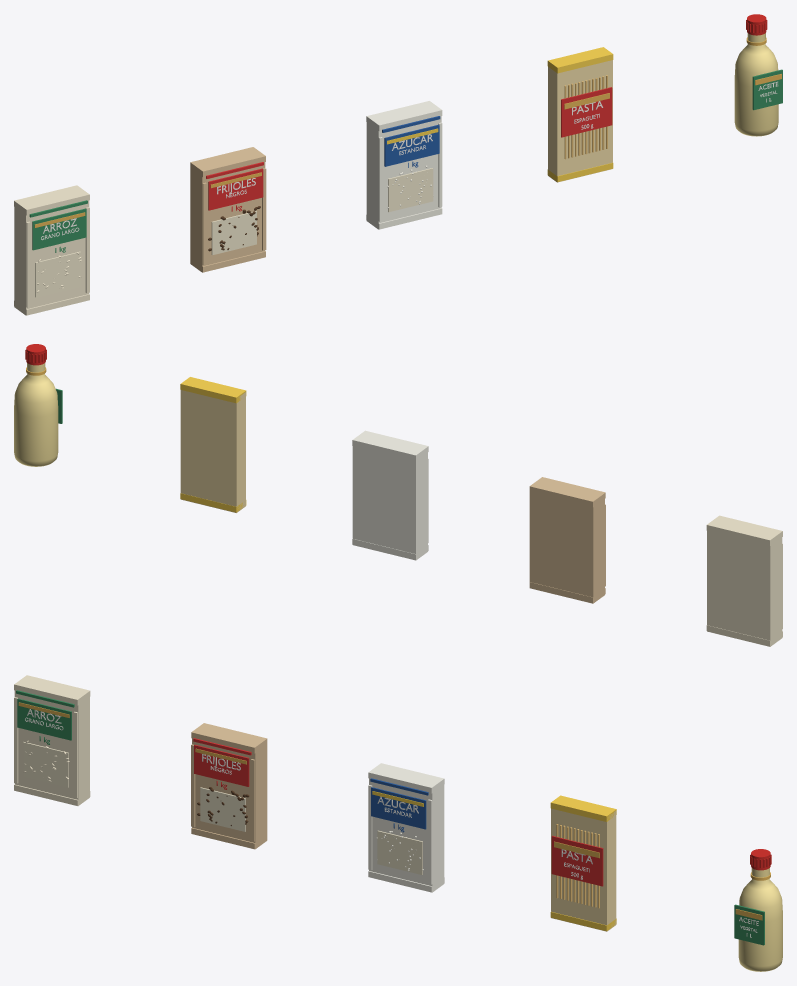
File: Abarrotes.glb
The picture shows the model from 3 angles, top to bottom: view 1: azimuth 30°, elevation 25°; view 2: azimuth 150°, elevation 25°; view 3: azimuth 330°, elevation 25°; orthographic projection.
Visible parts, largest first — view 1: Pasta_Envase, Arroz_Cuerpo, Azucar_Cuerpo, Frijoles_Cuerpo, Aceite_Botella, Pasta_Etiqueta, Arroz_Ventana, Azucar_Ventana, Frijoles_Ventana, Frijoles_Etiqueta_Base, Arroz_Etiqueta_Base, Azucar_Etiqueta_Base (+6 smaller); view 2: Arroz_Cuerpo, Azucar_Cuerpo, Frijoles_Cuerpo, Pasta_Envase, Aceite_Botella, Arroz_Sello_superior, Frijoles_Sello_superior, Azucar_Sello_superior, Pasta_Sello_superior; view 3: Pasta_Envase, Arroz_Cuerpo, Azucar_Cuerpo, Frijoles_Cuerpo, Aceite_Botella, Pasta_Etiqueta, Arroz_Ventana, Azucar_Ventana, Frijoles_Ventana, Azucar_Etiqueta_Base, Arroz_Etiqueta_Base, Frijoles_Etiqueta_Base (+5 smaller).
Part boxes in pixels (x1,y1,x2,y2): Pasta_Envase: (548,60,612,182); Arroz_Cuerpo: (14,200,89,315); Azucar_Cuerpo: (366,116,441,229); Frijoles_Cuerpo: (190,162,265,272); Aceite_Botella: (734,44,778,136); Pasta_Etiqueta: (561,87,612,137); Arroz_Ventana: (35,251,80,297); Azucar_Ventana: (388,168,433,212); Frijoles_Ventana: (211,211,256,255); Frijoles_Etiqueta_Base: (208,168,263,210); Arroz_Etiqueta_Base: (32,208,86,250); Azucar_Etiqueta_Base: (384,124,439,166); Arroz_Cuerpo: (707,531,782,646); Azucar_Cuerpo: (352,446,427,560); Frijoles_Cuerpo: (529,492,604,603); Pasta_Envase: (180,390,245,512); Aceite_Botella: (14,374,58,466); Arroz_Sello_superior: (706,515,782,545); Frijoles_Sello_superior: (529,477,605,507); Azucar_Sello_superior: (352,430,428,461); Pasta_Sello_superior: (180,377,246,403); Pasta_Envase: (551,808,616,931); Arroz_Cuerpo: (14,690,89,805); Azucar_Cuerpo: (369,778,444,892); Frijoles_Cuerpo: (192,738,267,849); Aceite_Botella: (738,879,782,971); Pasta_Etiqueta: (551,835,603,886); Arroz_Ventana: (23,742,68,787); Azucar_Ventana: (377,830,422,874); Frijoles_Ventana: (200,787,245,831); Azucar_Etiqueta_Base: (371,787,426,829); Arroz_Etiqueta_Base: (17,698,71,740); Frijoles_Etiqueta_Base: (194,745,249,786).
Size of the model in its own units: 10.29 by 1.53 by 0.5425.
